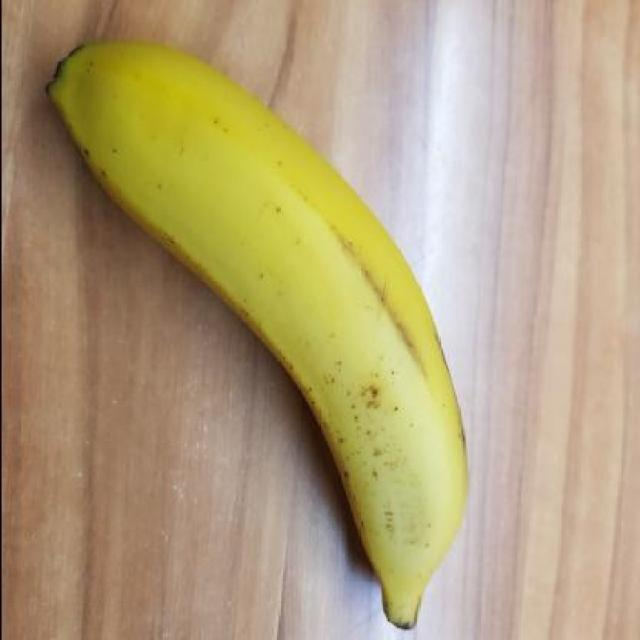Banana: (37, 32, 480, 640)
